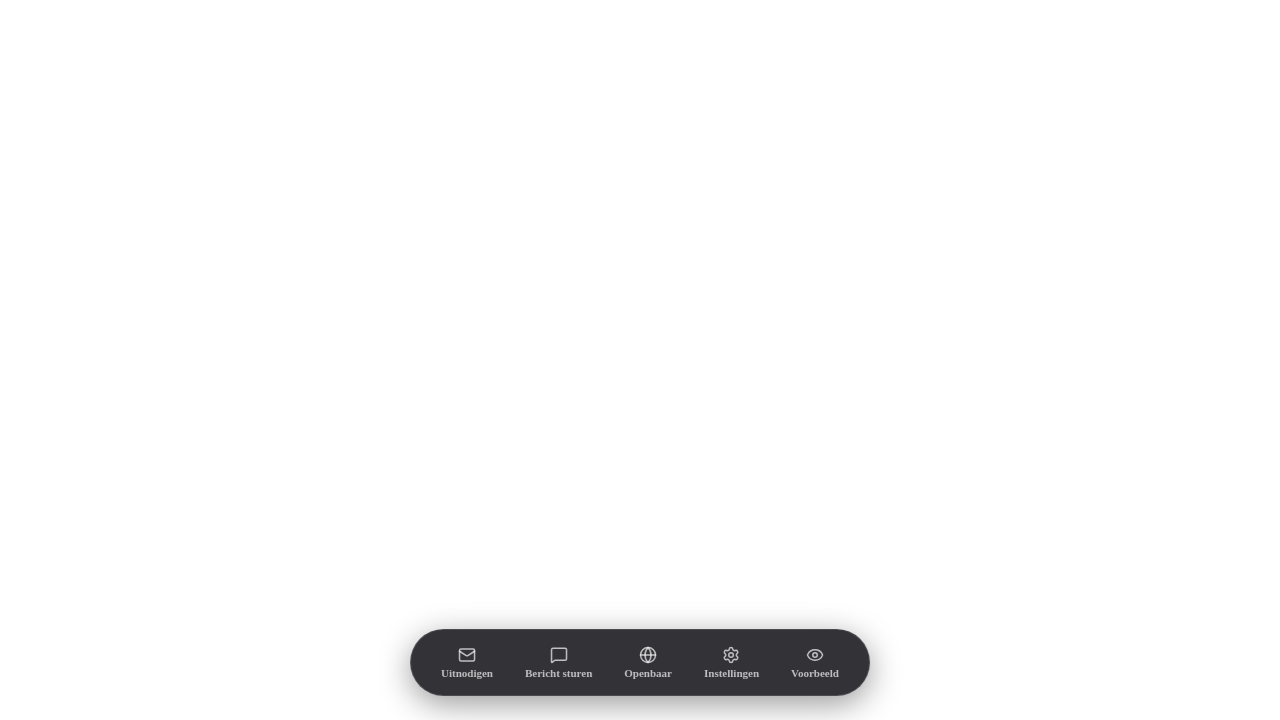
Test: localized host messaging › styles Dutch delivery feedback from the result for 2 recipients
The width and height of the screenshot is (1280, 720).
Expected: the button "Openbaar" is shown, 610,638 -> 686,687
Click the button "Bericht sturen". click: click(559, 662)
box: 511,638 -> 606,687
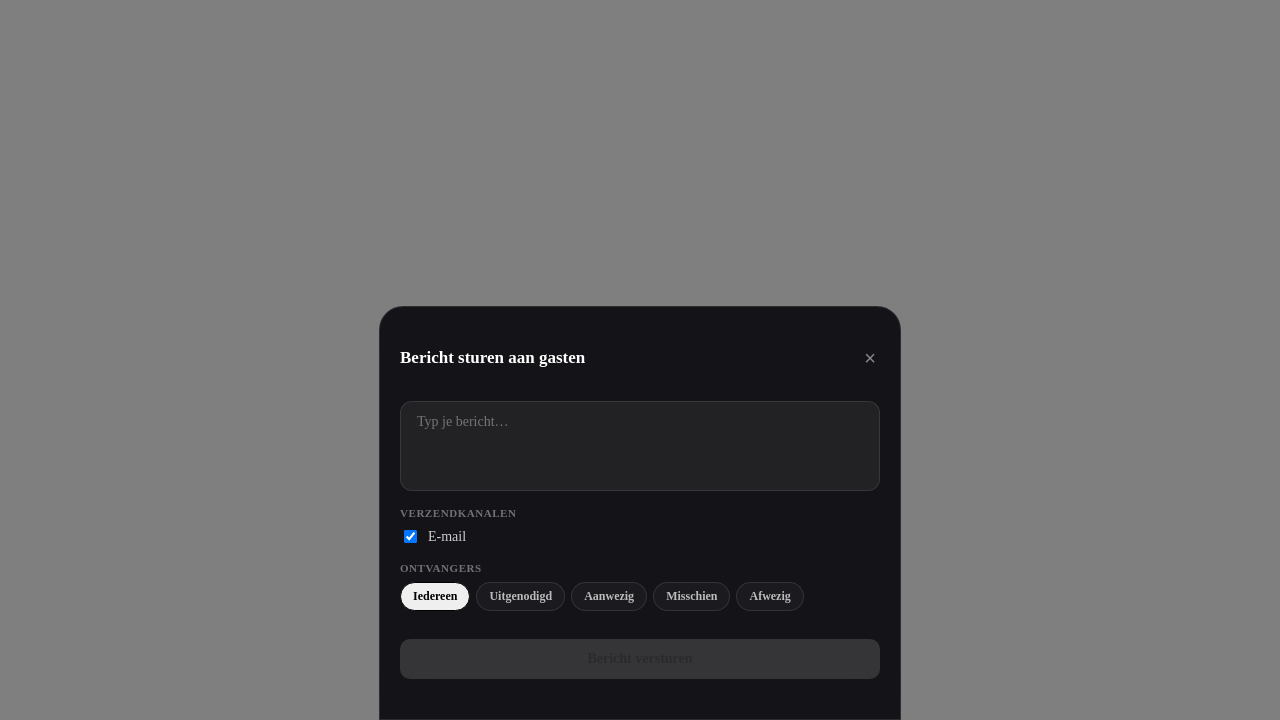
Type "Host-authored message stays verbatim" into the text box with placeholder "Typ je bericht…". click: (640, 446)
box: 400,401 -> 880,491
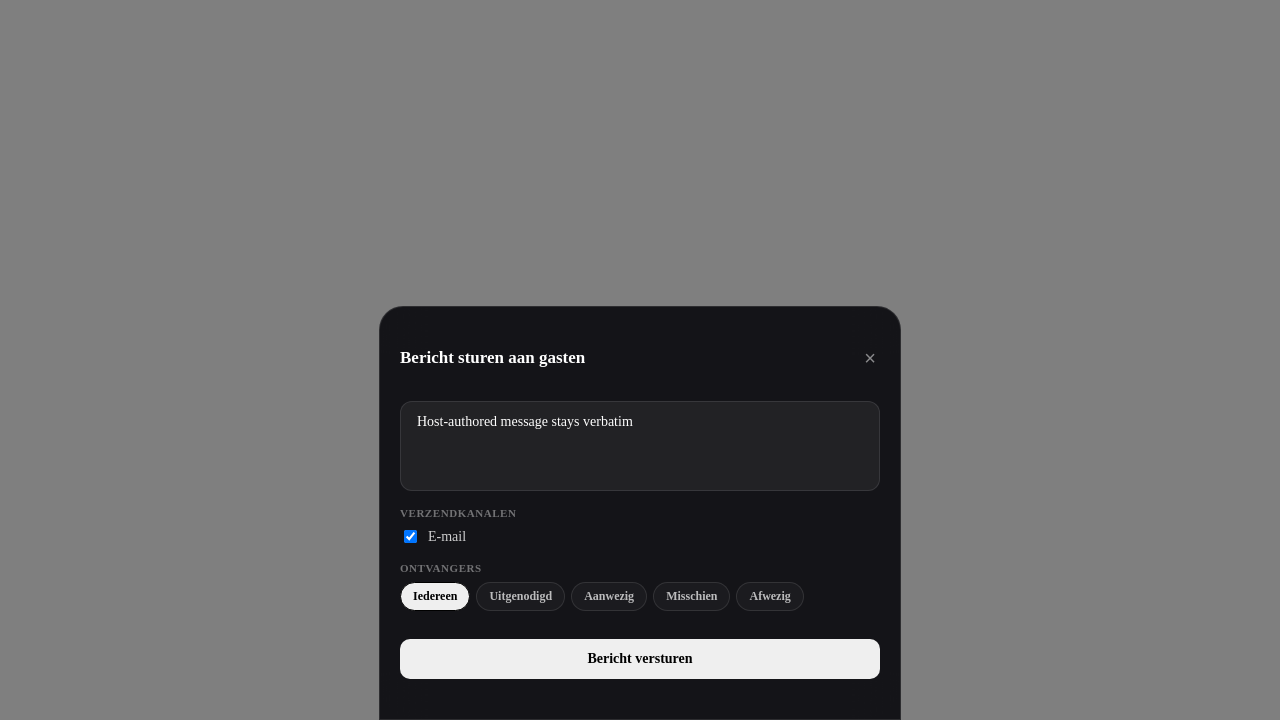
Click the button "Bericht versturen". click: click(640, 659)
box: 400,639 -> 880,679
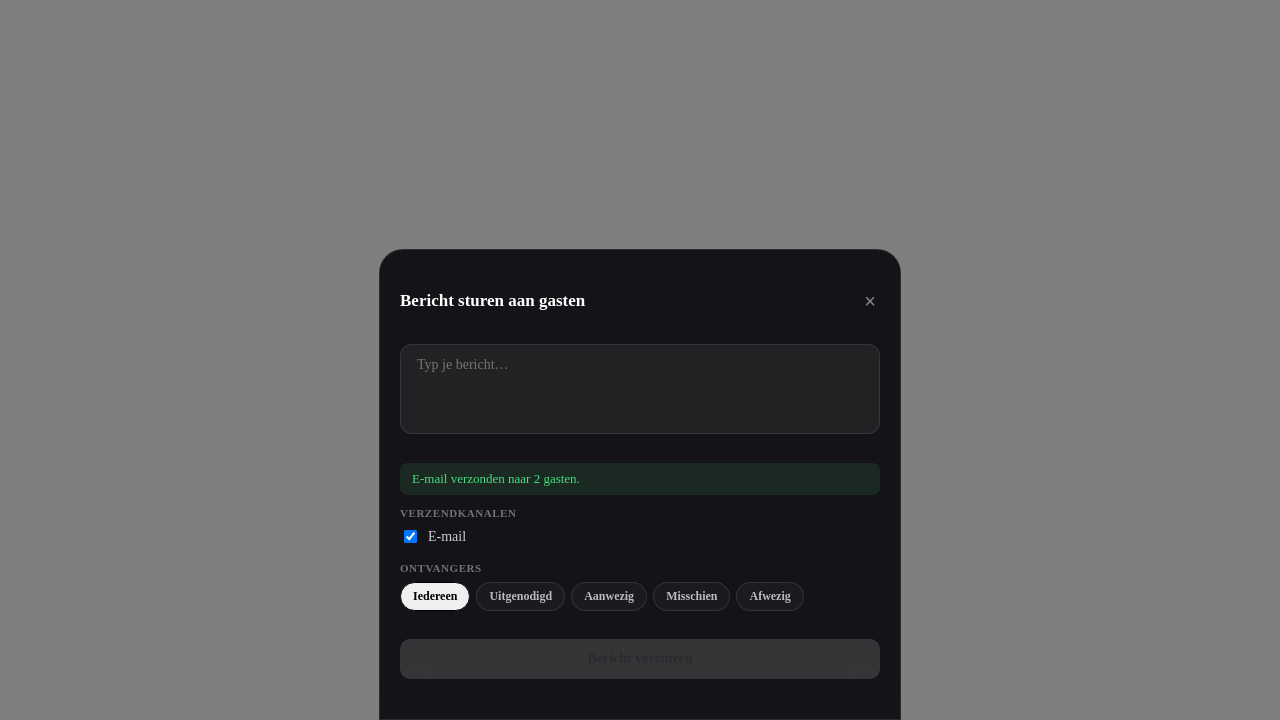
Expected: the text "E-mail verzonden naar 2 gasten." is shown, 400,463 -> 880,495
